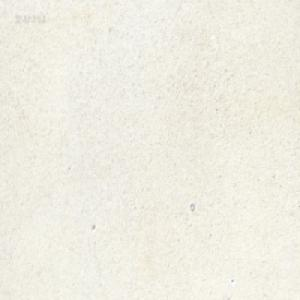Washer: (189, 202, 194, 211)
